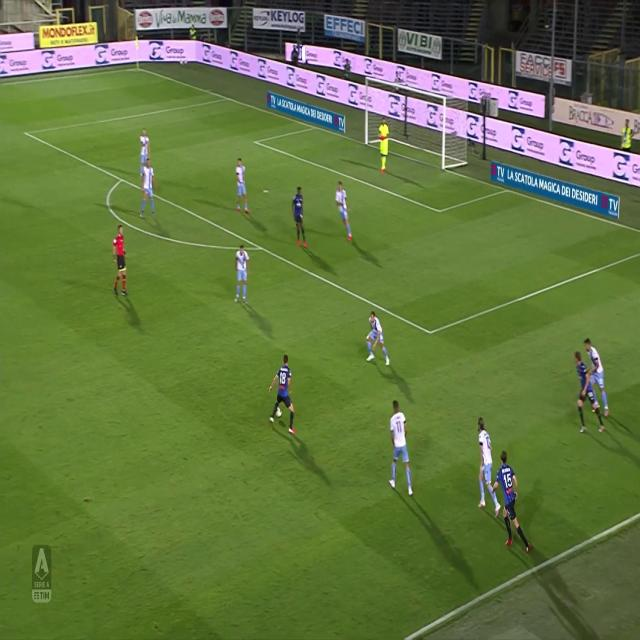ball: (274, 400, 282, 424)
team1: (498, 447, 533, 556), (570, 348, 604, 438), (272, 351, 297, 436), (291, 183, 310, 260)
team2: (471, 413, 504, 518), (387, 397, 415, 502), (582, 332, 610, 427), (364, 304, 394, 376), (333, 176, 354, 255), (234, 236, 252, 315), (138, 157, 160, 220), (234, 152, 252, 218), (136, 124, 152, 171)
